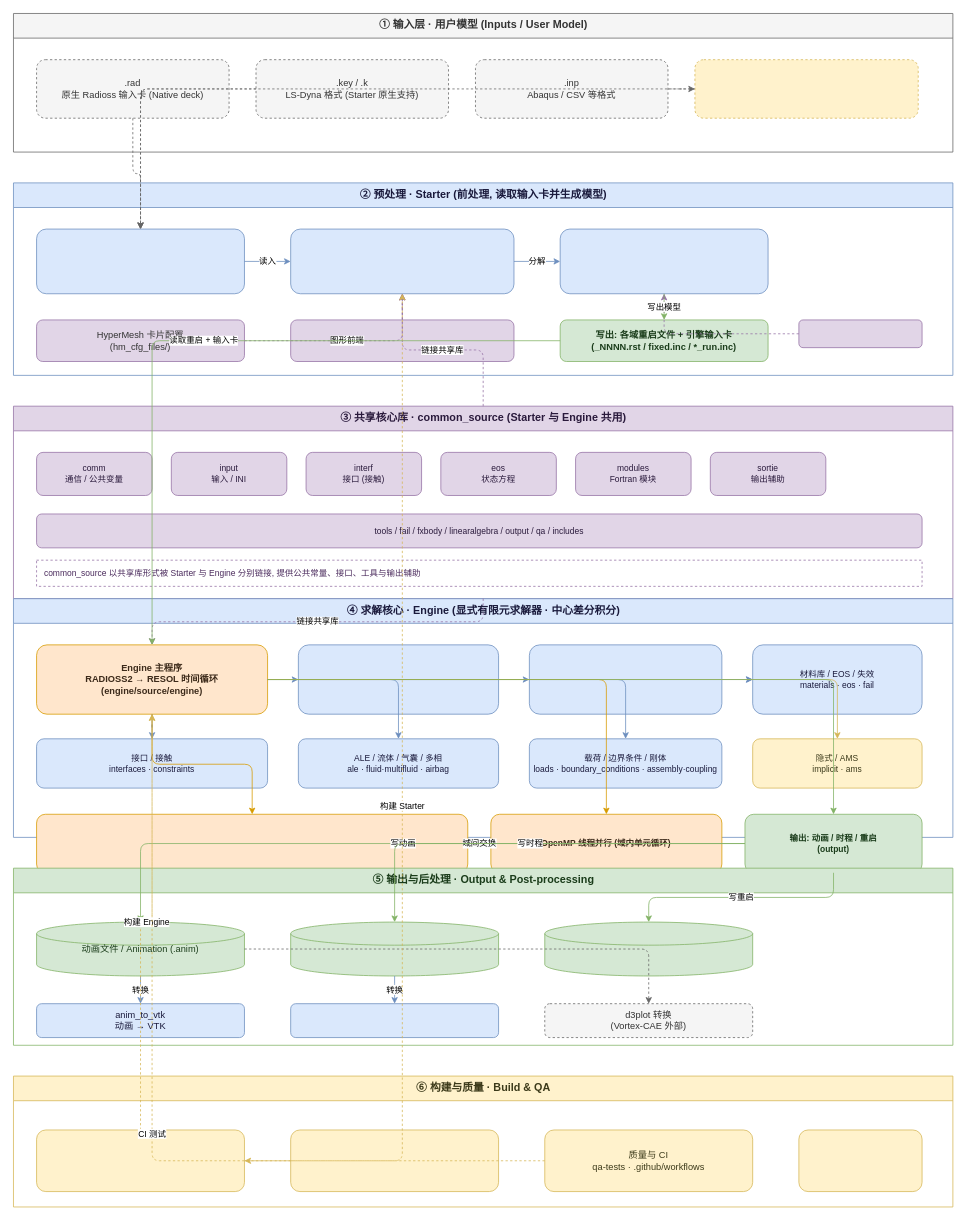
The diagram is 966 pixels wide and 1220 high, and some of its shapes have lost their labels. The centre of each missing label's shape, as x and y in pixels:
CMake 构建 (build=starter / engine / both) CMakeLists.txt: point (140, 1160)
EXTLIB 第三方依赖 (EXTLIB_VERSION.json): point (402, 340)
inp2rad 转换器 (.inp → .rad) 外部工具: point (806, 88)
Input Reader 读卡 / 格式解析 (reader/): point (140, 261)
MPI / SPMD 并行 mpi · spmd · groups 域间交换 (frontier 节点): point (252, 843)
SPMD / 网格域分解 (starter/source/spmd): point (663, 261)
Starter 执行体 构建模型 / 单元·材料·接口 (starter/source): point (402, 261)
stub/ (MPI/OpenMP 桩实现, 单进程): point (860, 333)
th_to_csv 时程 → CSV: point (394, 1020)
单元计算 elements (壳/体/梁/弹簧): point (625, 679)
容器 / 部署 Apptainer · scripts.tar · doc/: point (860, 1160)
时程文件 / Time history: point (394, 948)
时间步 / 通用控制 time_step · general_controls · system: point (398, 679)
编译工具链 CMake_Compilers · Compiling_tools: point (394, 1160)
重启文件 / Restart (_NNNN.rst): point (648, 948)
